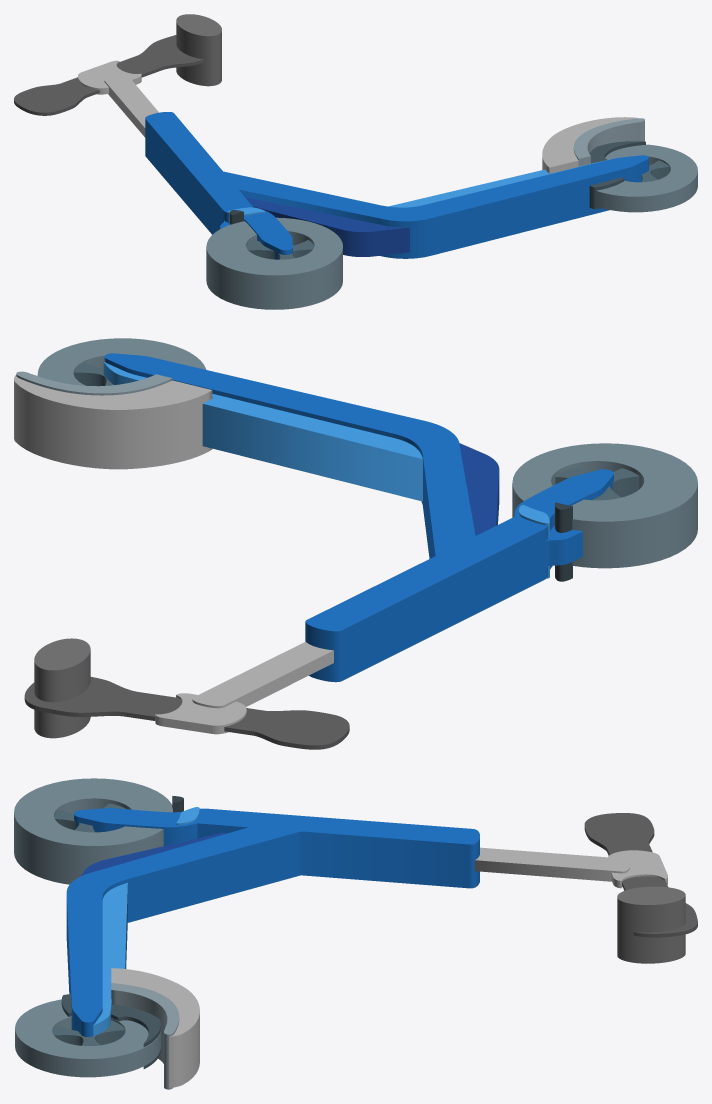
The model's file is emoji_u1f6f4.glb.
3 renders of one model, top to bottom at view 1: azimuth 30°, elevation 25°; view 2: azimuth 150°, elevation 25°; view 3: azimuth 270°, elevation 25°, orthographic. The views are drawn at different scales.
Parts seen in each view (by area): view 1: emoji_u1f6f4; view 2: emoji_u1f6f4; view 3: emoji_u1f6f4.
Boxes of the visible parts, x1,y1,x2,y2 form: emoji_u1f6f4: (14,14,697,309); emoji_u1f6f4: (14,338,697,749); emoji_u1f6f4: (14,778,697,1089).
Size of the model in its own units: 0.0316 by 0.0034 by 0.0339.
